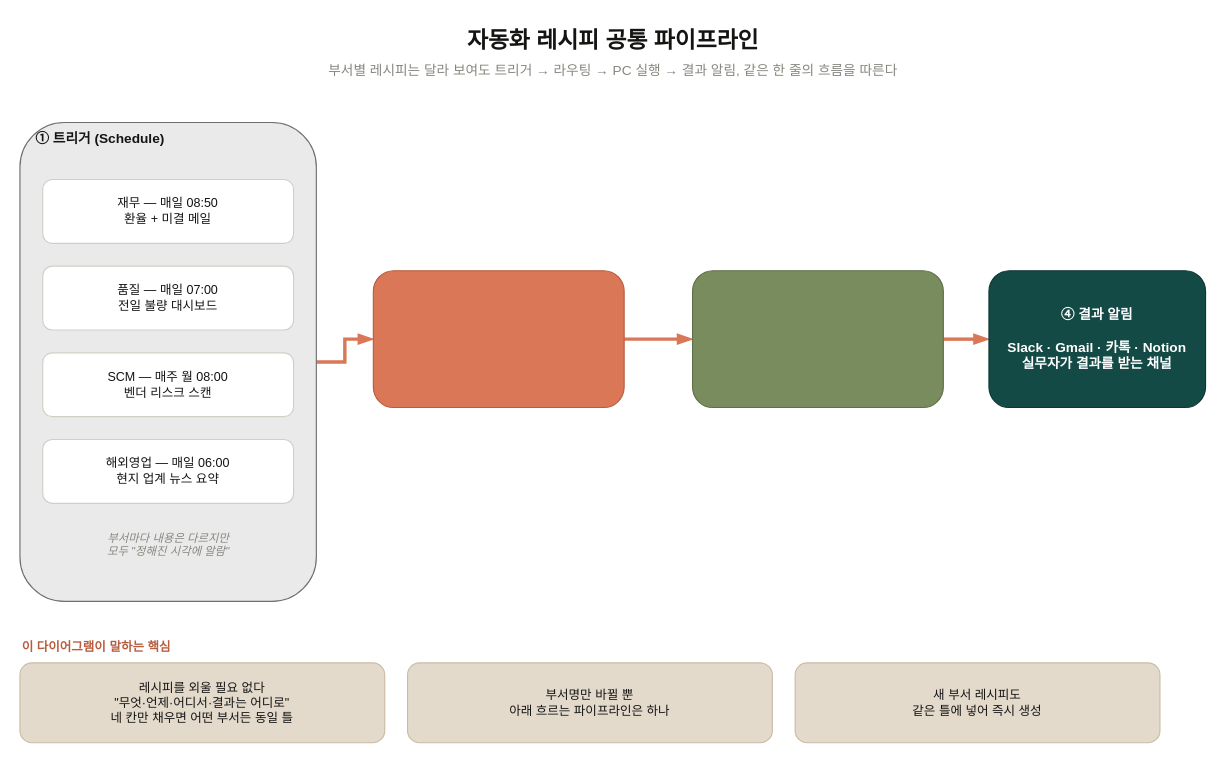
Some shapes in this 1226 by 763 pixel diagram are drawn without their labels. Each missing label, with the box of its shape:
② 라우팅 (Dispatch) 지시를 대기 중인 PC로 배달 "마지막으로 사용한 PC" 기준: (372, 270, 624, 408)
③ PC 실행 Cowork 세션이 자동 재개 실제 작업 수행 (조회·분석·보고서 작성): (691, 270, 943, 408)
